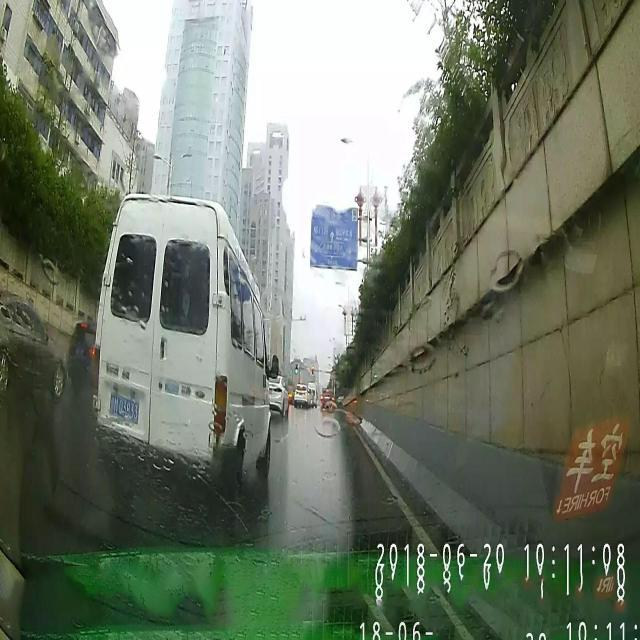car: (94, 192, 270, 489), (1, 292, 64, 398), (69, 319, 100, 393), (268, 372, 286, 419), (319, 384, 336, 410), (293, 382, 307, 406)
